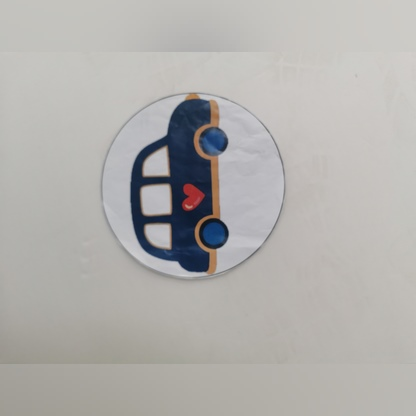car: (120, 85, 242, 268)
